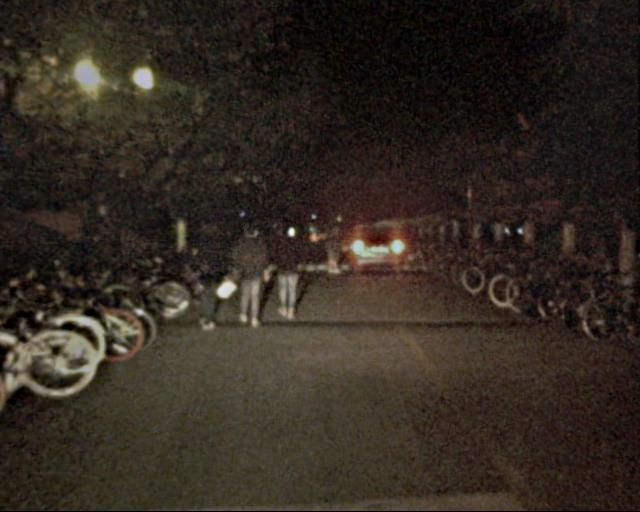person: (195, 212, 233, 327), (270, 215, 304, 323), (236, 225, 267, 327), (323, 227, 345, 273)
